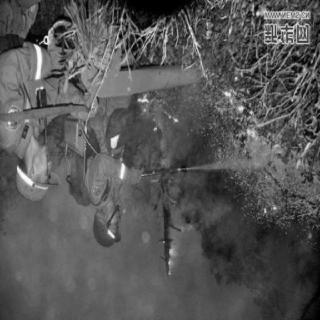Fire: (208, 107, 320, 237)
other: (14, 29, 184, 247)
